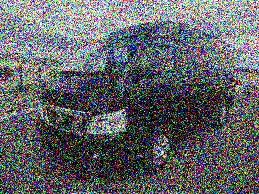van: (37, 18, 236, 174)
